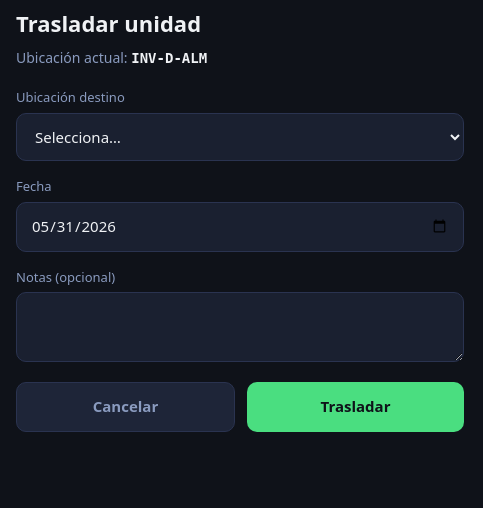
Test: TrasladarUpScreen › exige elegir un destino antes de enviar
The width and height of the screenshot is (483, 508).
Click the button "Trasladar".
click(356, 407)  # box [247,382,464,432]
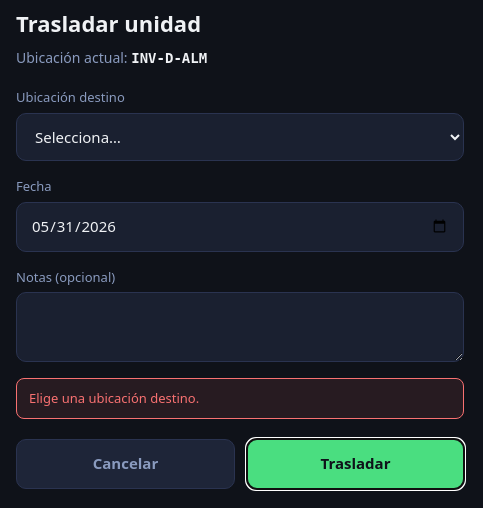
Result: the message "Elige una ubicación destino." is shown at [16,378,464,419]
